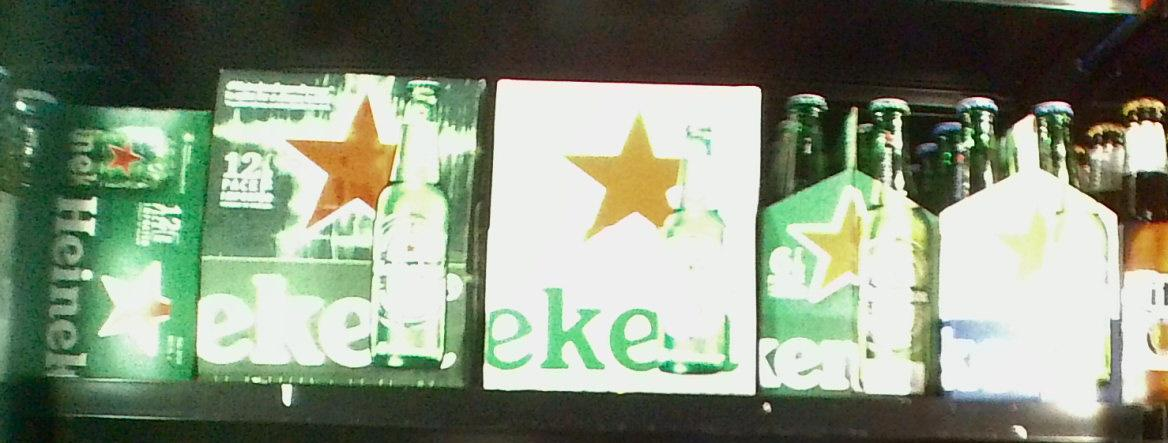bottle: (492, 77, 757, 393), (215, 68, 471, 382), (932, 96, 1122, 403), (763, 93, 926, 394), (27, 104, 206, 376)
